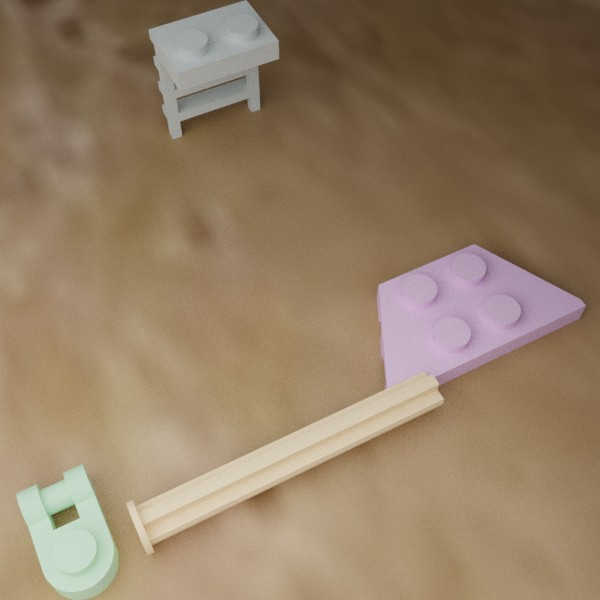lego: (125, 371, 443, 555), (376, 244, 586, 408), (148, 0, 279, 139), (16, 463, 119, 600)
